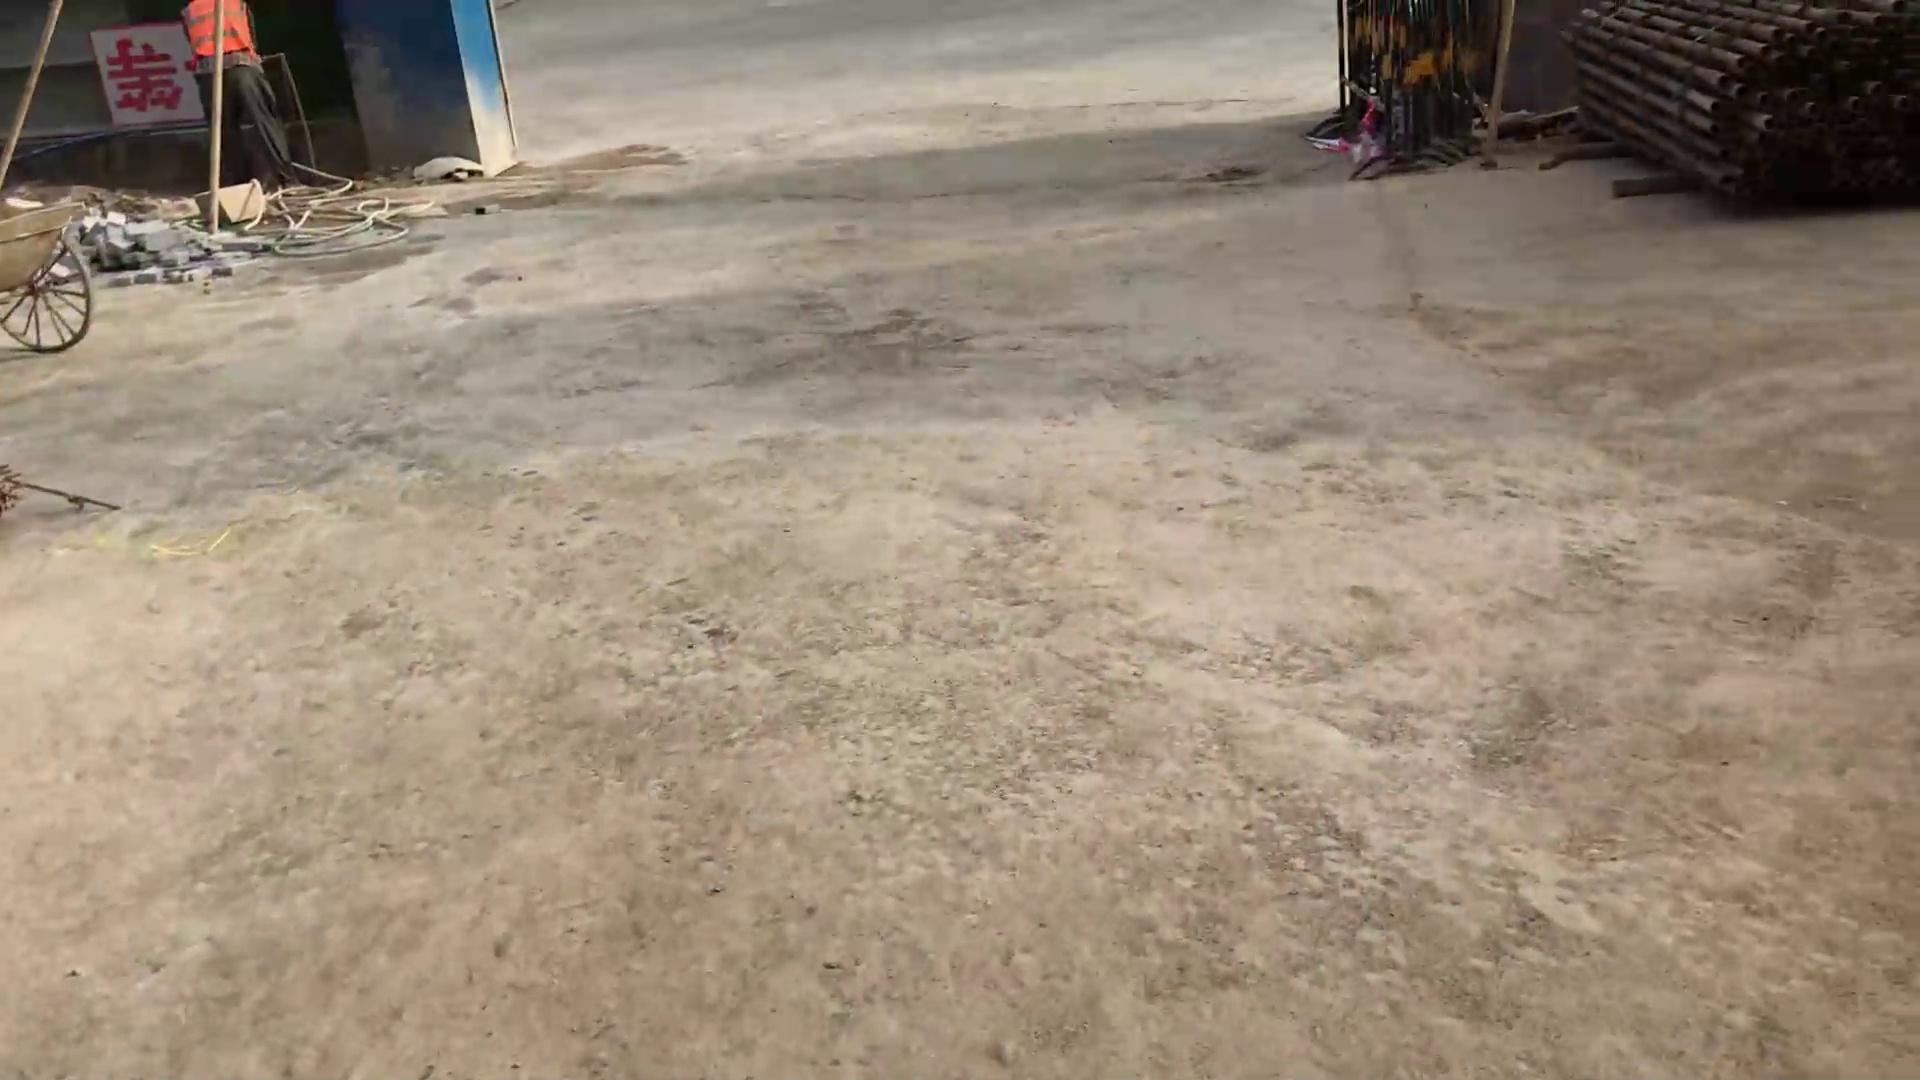handcart: (1, 195, 104, 354)
person: (180, 1, 303, 199)
scaffold: (1568, 1, 1920, 217)
slogan: (92, 30, 201, 123)
vest: (180, 1, 257, 65)
